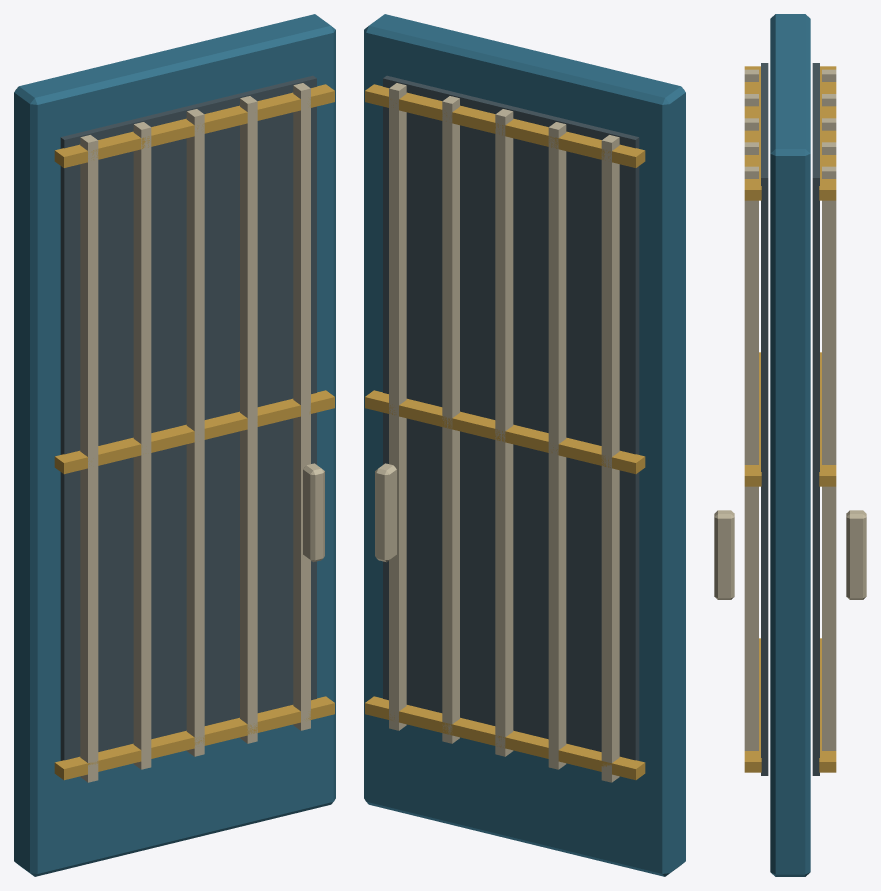
File: door_cell_gate.glb
3 views of the same model, side by side, from view 1: azimuth 30°, elevation 25°; view 2: azimuth 150°, elevation 25°; view 3: azimuth 270°, elevation 25° (orthographic). The views are drawn at different scales.
Visible parts, largest first — view 1: door_cell_gate; view 2: door_cell_gate; view 3: door_cell_gate.
Boxes of the visible parts, x1,y1,x2,y2 form: door_cell_gate: (14, 14, 335, 876); door_cell_gate: (364, 14, 685, 876); door_cell_gate: (714, 14, 866, 876).
Size of the model in its own units: 1.15 by 2.8 by 0.53.
